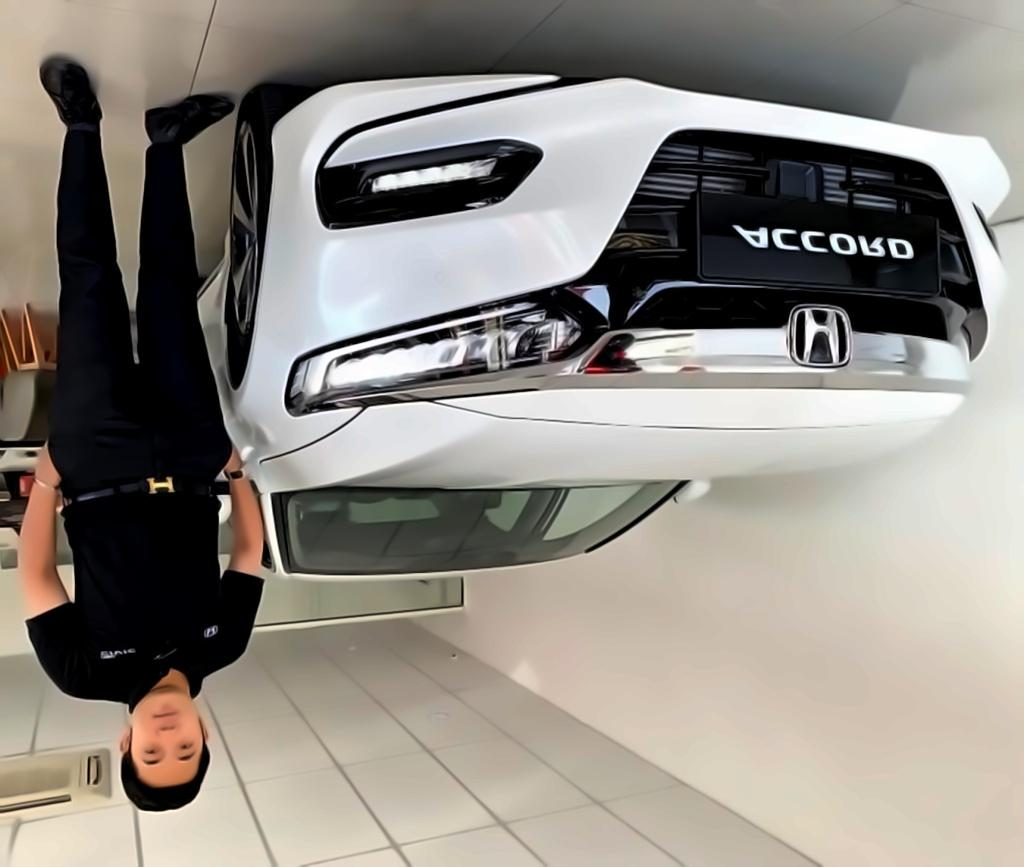Car hood: (244, 383, 966, 496)
Front bumper: (252, 64, 1009, 368)
Headlight - -L-: (283, 283, 607, 416)
